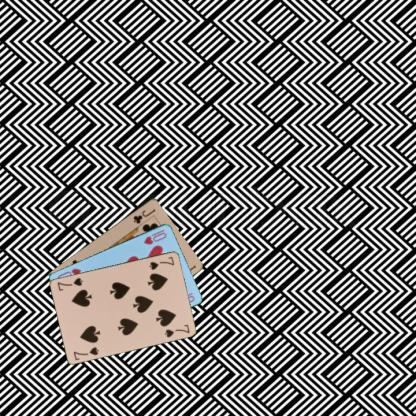10h: (141, 230, 168, 246)
7s: (146, 254, 176, 271), (71, 344, 100, 361)
Jc: (130, 206, 156, 225)
